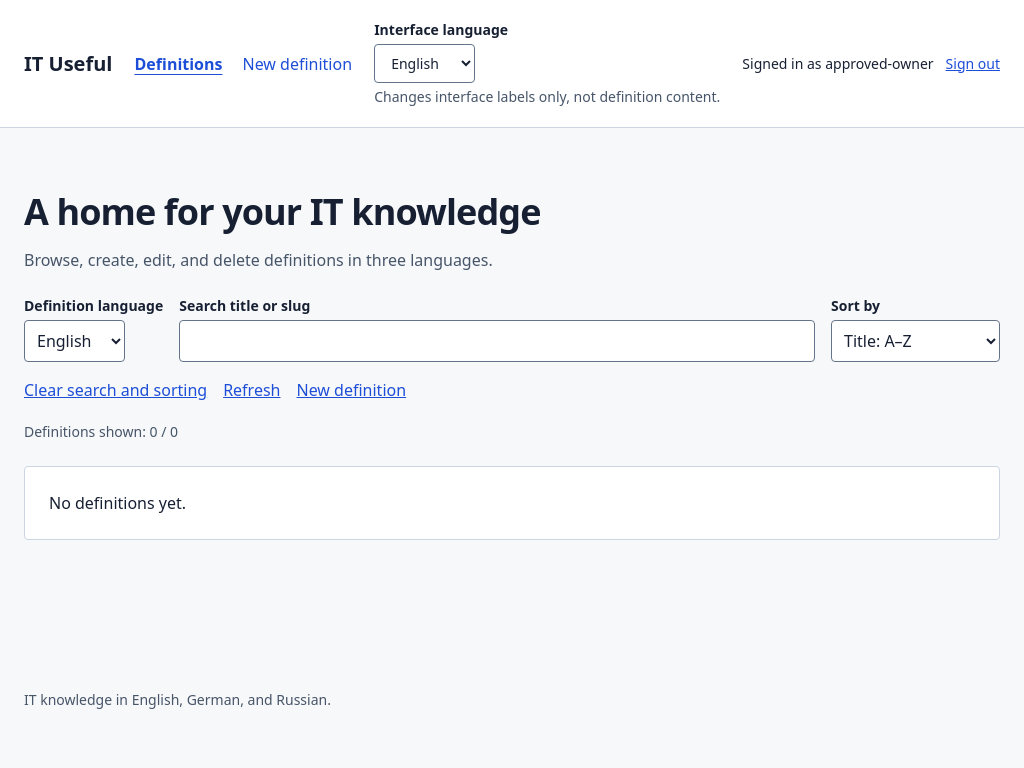
Scenario: renders the owner shell and signs out with its in-memory CSRF token
Expected: the text "Signed in as approved-owner" is shown, [742,54,934,74]
Expected: the navigation bar is shown, [134,52,352,76]
Click the button "Sign out": (973,64) [946,54,1000,74]
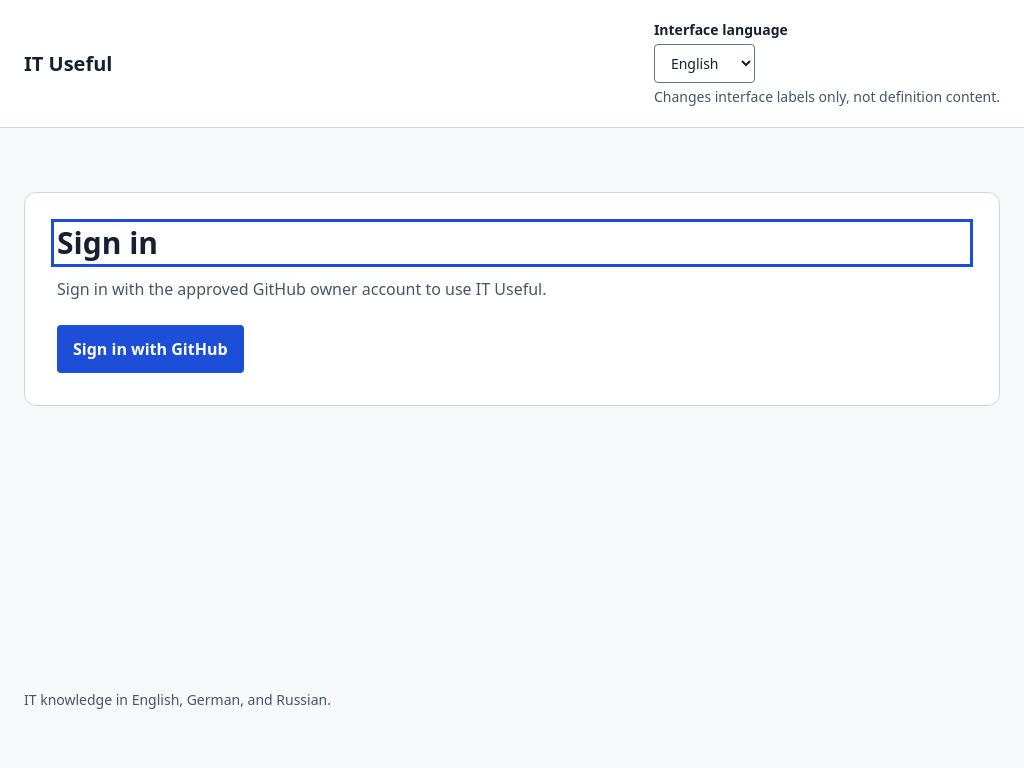
Now the heading "Sign in" is shown, box [57,222,158,263]
